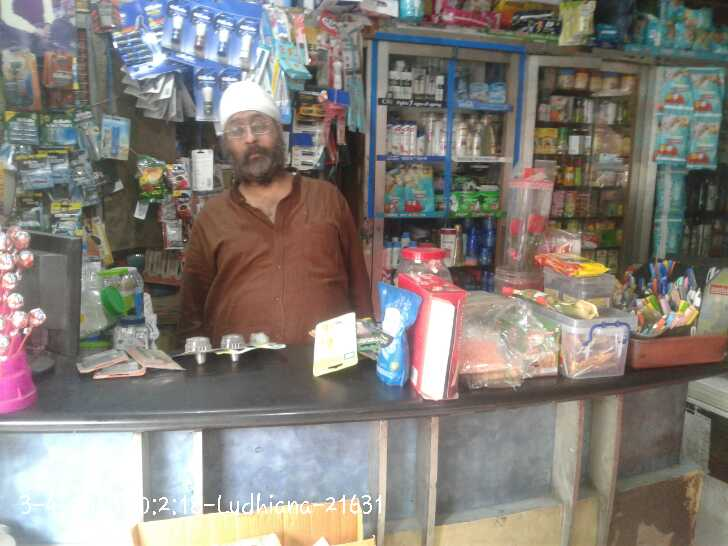gillete: (4, 49, 31, 105), (113, 31, 153, 67), (194, 69, 220, 121), (15, 152, 53, 187), (191, 5, 213, 58), (78, 111, 100, 164), (7, 110, 38, 145), (46, 51, 76, 87), (214, 13, 236, 58), (16, 191, 45, 224), (50, 201, 79, 233), (166, 1, 188, 42), (43, 112, 69, 144), (236, 17, 253, 64), (73, 165, 94, 198), (141, 1, 160, 28), (56, 147, 68, 181)
venus: (488, 81, 507, 103), (470, 82, 487, 103)
